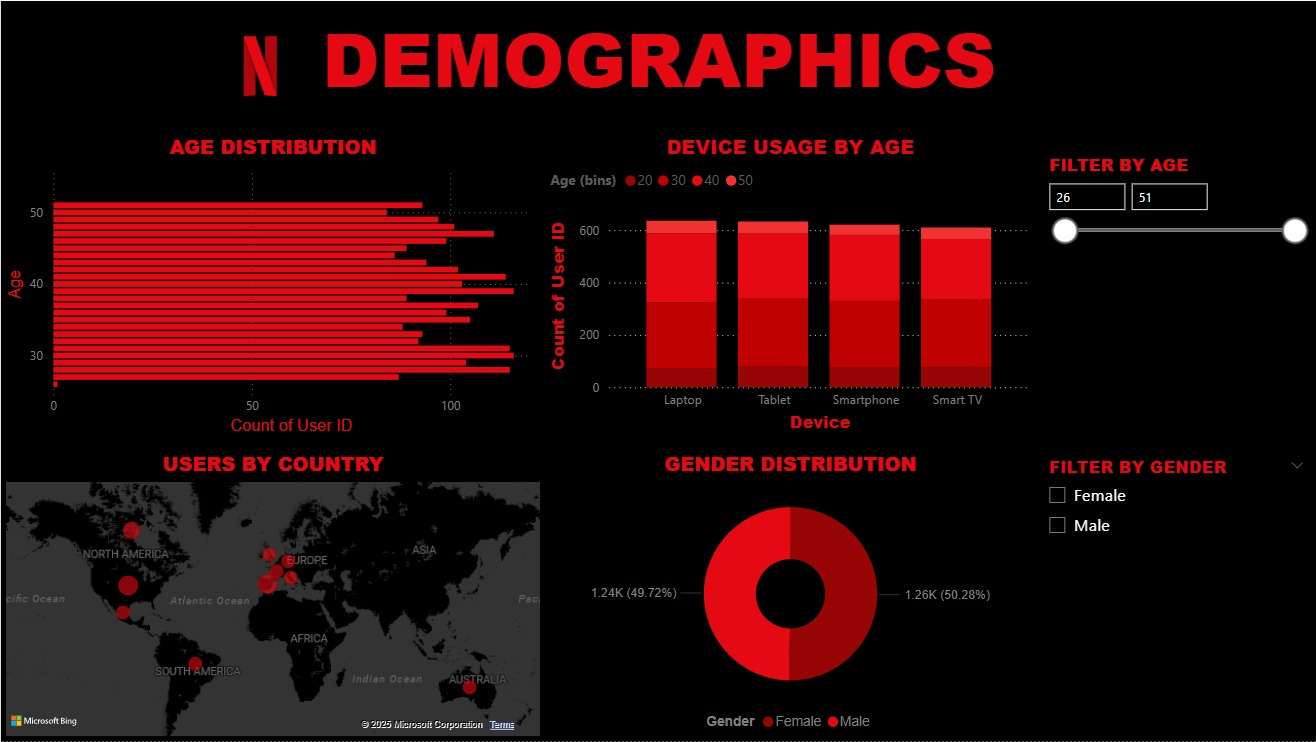

Layout of this report page (visuals, bound fields, positions):
{"tool":"powerbi","page":{"name":"DEMOGRAPHICS","canvas":[1280,720],"ordinal":1},"visuals":[{"type":"clusteredBarChart","title":"AGE DISTRIBUTION","fields":{"Category":["Netflix Userbase.Age"],"Y":["CountNonNull(Netflix Userbase.User ID)"]},"box":[0,127.4,529.1,298.6],"z":0},{"type":"donutChart","title":"GENDER DISTRIBUTION","fields":{"Category":["Netflix Userbase.Gender"],"Y":["CountNonNull(Netflix Userbase.User ID)"]},"box":[529.1,435.7,477.6,284],"z":1000},{"type":"map","title":"USERS BY COUNTRY","fields":{"Category":["Netflix Userbase.Country"],"Size":["CountNonNull(Netflix Userbase.User ID)"]},"box":[0,435.7,529.1,284],"z":2000},{"type":"slicer","fields":{"Values":["Netflix Userbase.Age"]},"box":[1006.7,127.4,273.3,308.3],"z":3000},{"type":"slicer","fields":{"Values":["Netflix Userbase.Gender"]},"box":[1006.7,435.7,273.3,284],"z":4000},{"type":"textbox","box":[0,0,1280,127.4],"z":5000},{"type":"columnChart","title":"DEVICE USAGE BY AGE","fields":{"Category":["Netflix Userbase.Device"],"Y":["CountNonNull(Netflix Userbase.User ID)"],"Series":["Netflix Userbase.Age (bins)"]},"box":[529.1,127.4,477.6,298.6],"z":5001},{"type":"image","box":[187.7,0,128.4,127.4],"z":5002}]}

Visuals, with their boxes in screenshot pixels (x1, y1, x2, y2), scaled from the page's 1280x720 canvas onto the 1316x742 screenshot:
"AGE DISTRIBUTION" clusteredBarChart: <region>0, 131, 544, 439</region>
"GENDER DISTRIBUTION" donutChart: <region>544, 449, 1035, 741</region>
"USERS BY COUNTRY" map: <region>0, 449, 544, 741</region>
slicer - Netflix Userbase.Age: <region>1035, 131, 1315, 449</region>
slicer - Netflix Userbase.Gender: <region>1035, 449, 1315, 741</region>
textbox: <region>0, 0, 1315, 131</region>
"DEVICE USAGE BY AGE" columnChart: <region>544, 131, 1035, 439</region>
image: <region>193, 0, 325, 131</region>
